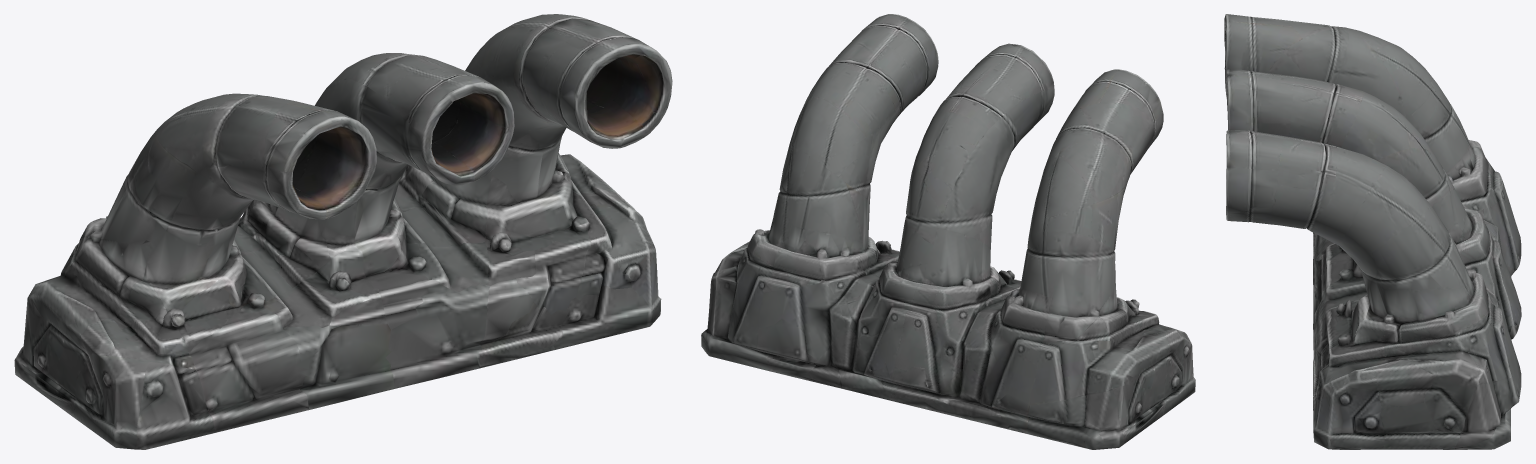
The model's file is exhaust_triple.glb.
3 renders of one model, left to right at view 1: azimuth 30°, elevation 25°; view 2: azimuth 150°, elevation 25°; view 3: azimuth 270°, elevation 25°, orthographic. The views are drawn at different scales.
Parts seen in each view (by area): view 1: mesh_node; view 2: mesh_node; view 3: mesh_node.
Part boxes in pixels (<box>): mesh_node: <box>14,14,672,449</box>; mesh_node: <box>701,14,1195,449</box>; mesh_node: <box>1224,14,1521,449</box>.
Size of the model in its own units: 1.9 by 1.12 by 1.09.
Materials: 1 (1 with a texture image).
